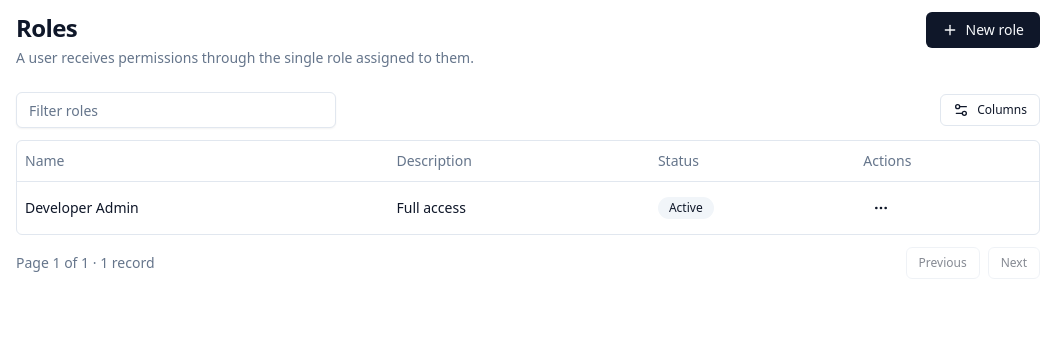
Test: RolesPage — no delete (D-5) › offers Edit, Permissions and a status change only
Click the button named "actions for developer admin". click: (881, 208)
box: [863, 190, 899, 226]
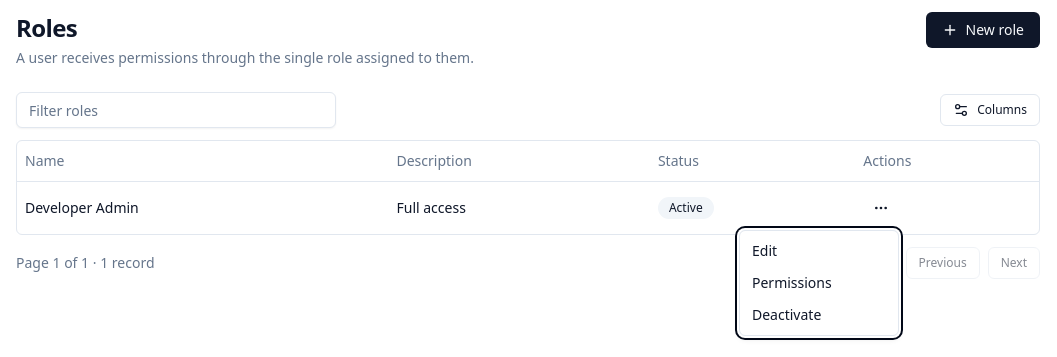
Check: the menu items read "Edit", "Permissions", "Deactivate", in this order, box [752, 241, 777, 260]; [752, 273, 832, 292]; [752, 305, 821, 324]
